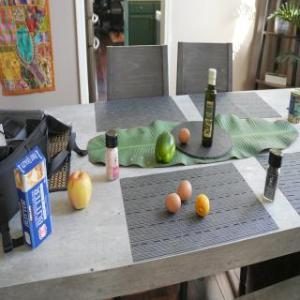bell_pepper: (154, 131, 178, 165)
egg: (164, 193, 180, 213), (178, 179, 190, 200), (178, 128, 189, 144)
